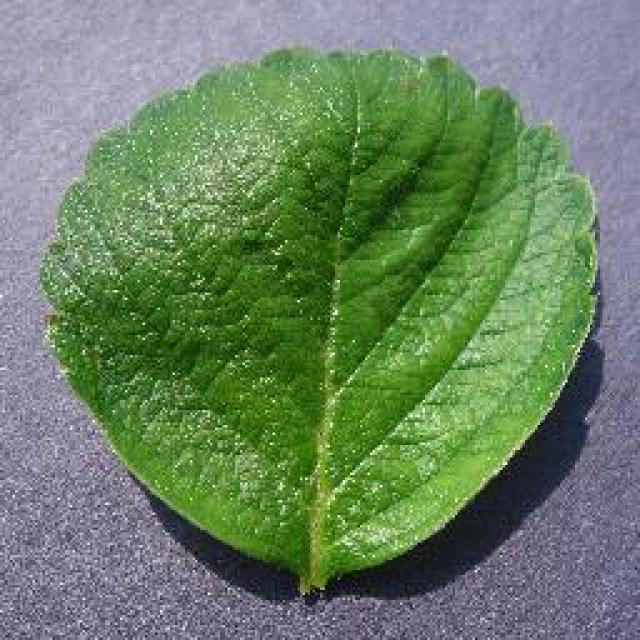Strawberry___healthy: (59, 78, 560, 530)
